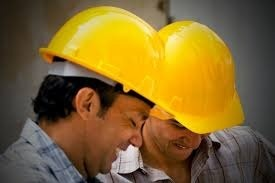helmet: (37, 4, 167, 99), (156, 16, 252, 132)
person with partial safety: (25, 5, 161, 183), (158, 16, 271, 183)
